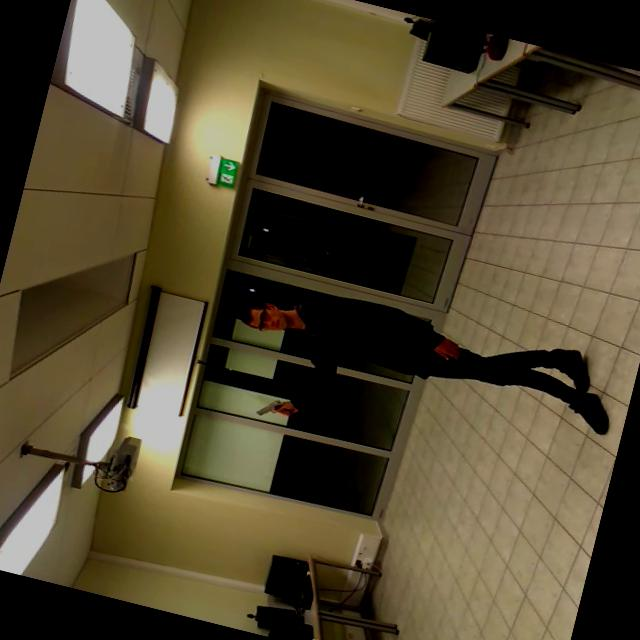handgun: (245, 390, 308, 432)
